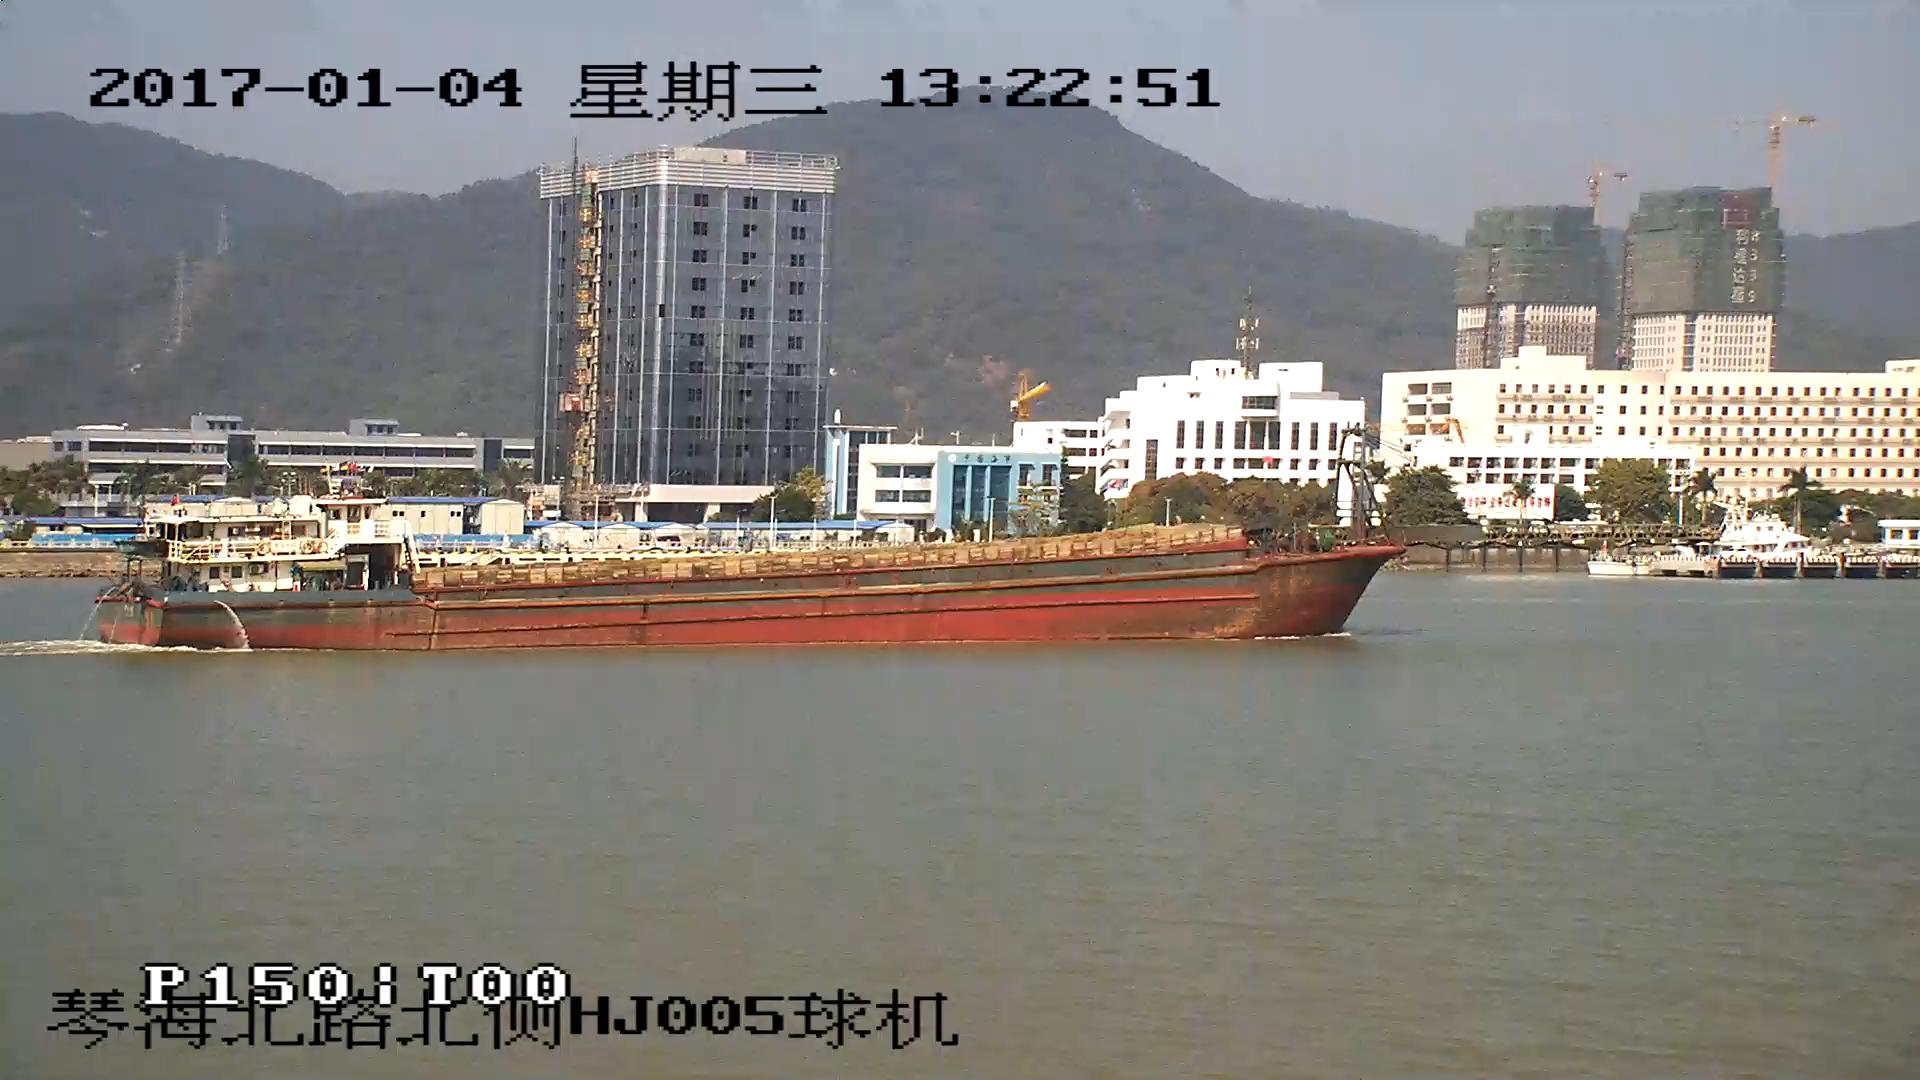bulk cargo carrier: (94, 426, 1533, 646)
